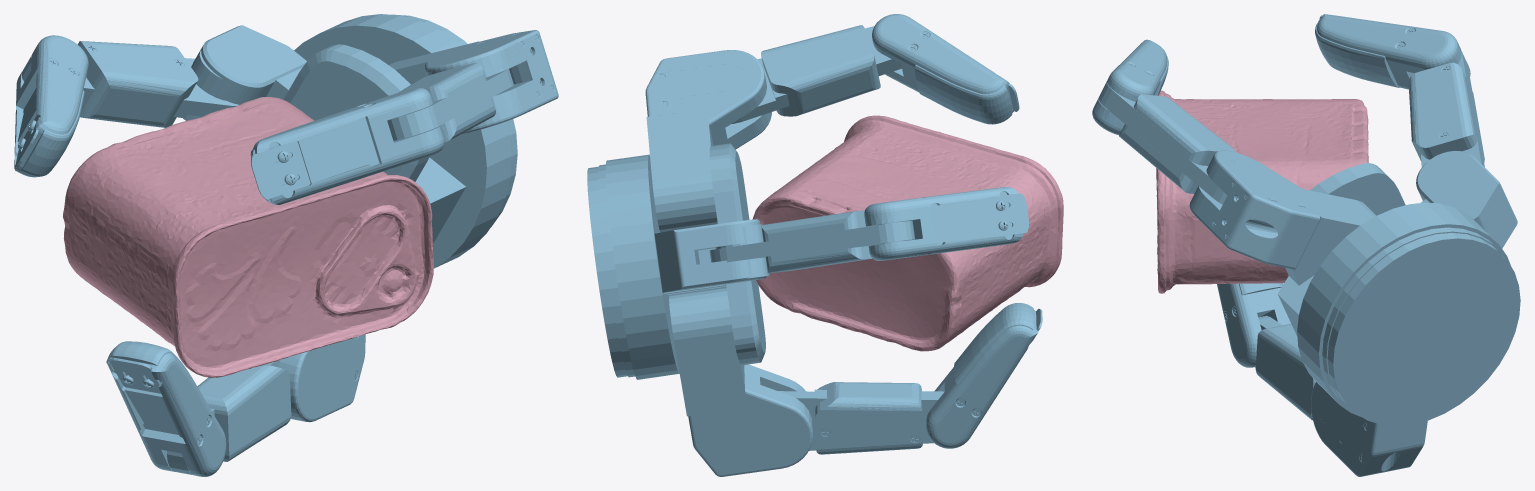
3 renders of one model, left to right at view 1: azimuth 30°, elevation 25°; view 2: azimuth 150°, elevation 25°; view 3: azimuth 270°, elevation 25°, orthographic. The views are drawn at different scales.
Visible parts, largest first — view 1: world, potted_meat_can.stl; view 2: world, potted_meat_can.stl; view 3: world, potted_meat_can.stl.
Boxes of the visible parts, x1,y1,x2,y2 form: world: (14,14,558,476); potted_meat_can.stl: (63,97,433,377); world: (587,14,1042,476); potted_meat_can.stl: (752,115,1063,351); world: (1092,14,1520,476); potted_meat_can.stl: (1156,90,1368,293).
Bounding box in the file's own units: 0.1978 × 0.163 × 0.1683.
